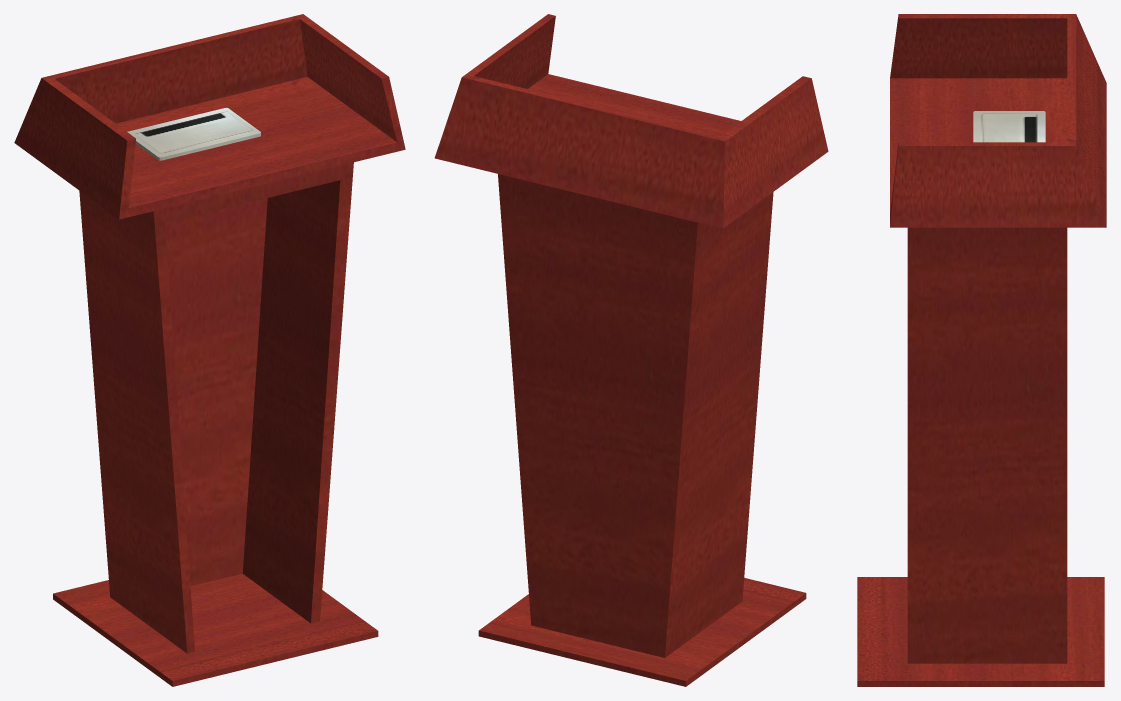
File: CK-yanjiangtai0001-CJBZ.FBX
The picture shows the model from 3 angles, left to right: view 1: azimuth 30°, elevation 25°; view 2: azimuth 150°, elevation 25°; view 3: azimuth 270°, elevation 25°; orthographic projection. The views are drawn at different scales.
Parts seen in each view (by area): view 1: CK-yanjiangtai0001-CJBZ; view 2: CK-yanjiangtai0001-CJBZ; view 3: CK-yanjiangtai0001-CJBZ.
Boxes of the visible parts, x1=… form: CK-yanjiangtai0001-CJBZ: x1=14, y1=14, x2=405, y2=686; CK-yanjiangtai0001-CJBZ: x1=434, y1=14, x2=828, y2=686; CK-yanjiangtai0001-CJBZ: x1=857, y1=14, x2=1106, y2=686.
Bounding box in the file's own units: 0.6484 × 1.16 × 0.4724.
Materials: 2 (2 with a texture image).
